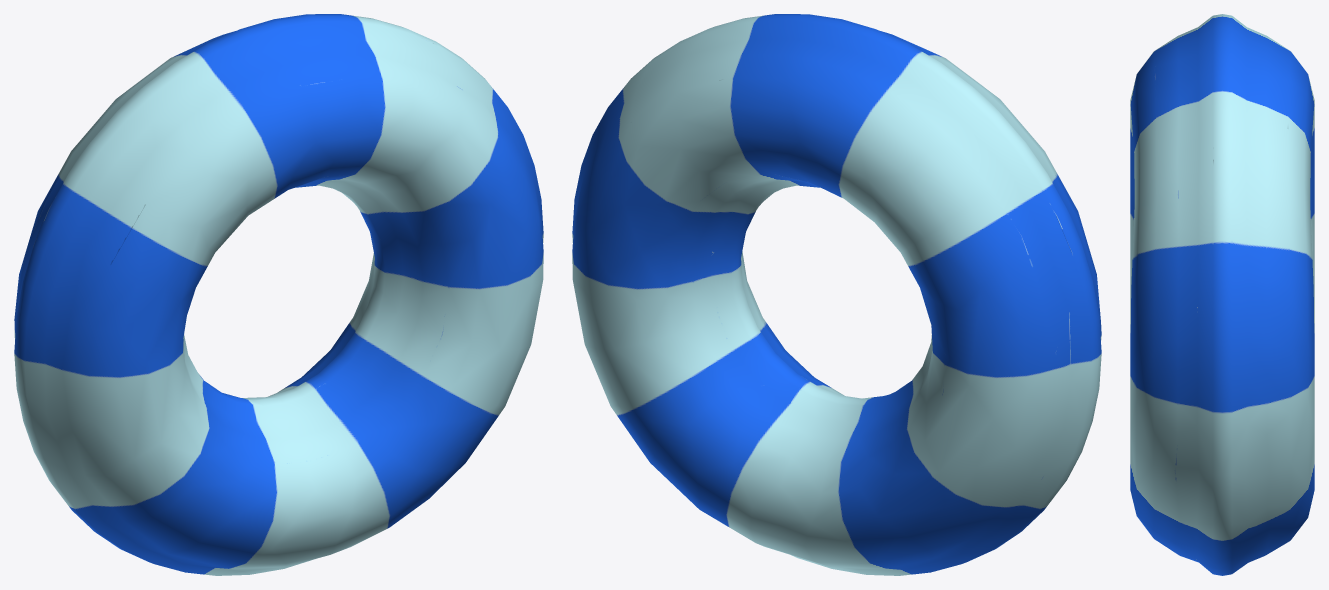
Rendered from blue ring.fbx.
3 views of the same model, side by side, from view 1: azimuth 30°, elevation 25°; view 2: azimuth 150°, elevation 25°; view 3: azimuth 270°, elevation 25° (orthographic). The views are drawn at different scales.
Parts seen in each view (by area): view 1: Circle; view 2: Circle; view 3: Circle.
Boxes of the visible parts, x1,y1,x2,y2 form: Circle: [14, 14, 543, 575]; Circle: [572, 14, 1101, 575]; Circle: [1130, 14, 1314, 575].
Bounding box in the file's own units: 370 × 369 × 121.
Materials: 1 (1 with a texture image).
